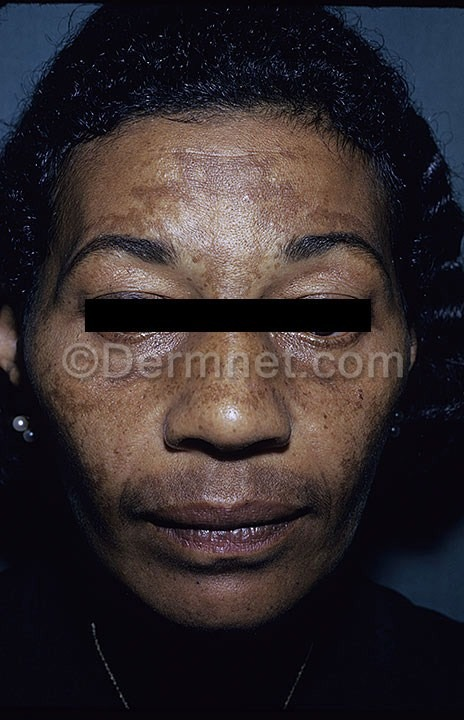Melasma: (45, 383, 388, 472), (162, 59, 309, 216), (92, 470, 364, 505)
